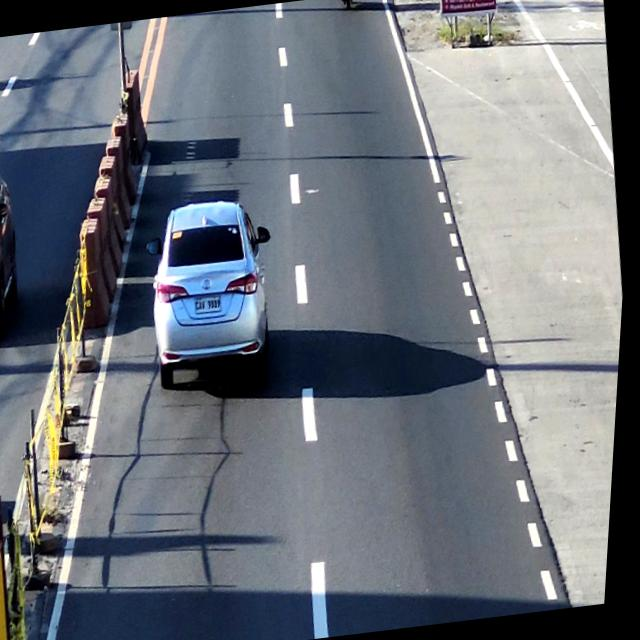Car: (138, 192, 291, 398)
License-Plate: (196, 292, 226, 317)
